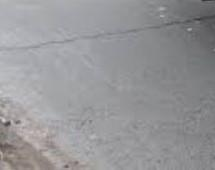crack: (14, 15, 215, 47)
